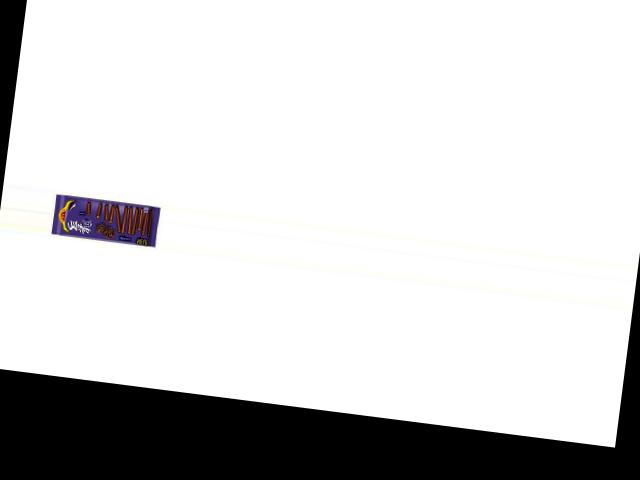chocolate: (50, 188, 163, 248)
